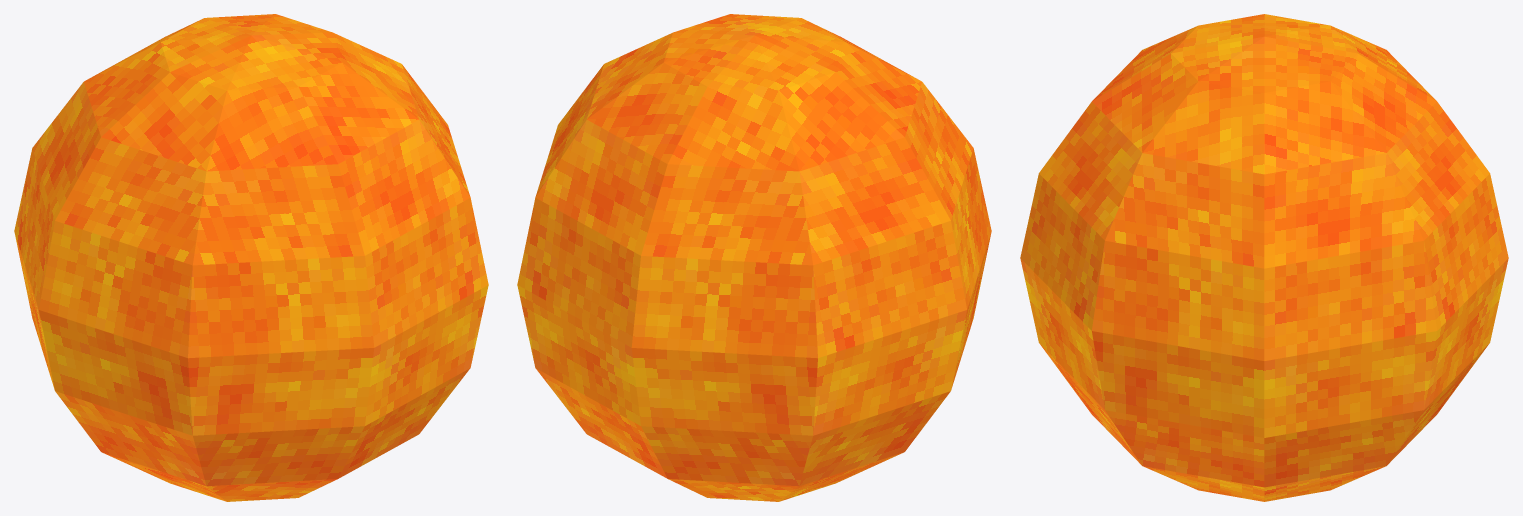
Rendered from Fireball.glb.
3 views of the same model, side by side, from view 1: azimuth 30°, elevation 25°; view 2: azimuth 150°, elevation 25°; view 3: azimuth 270°, elevation 25° (orthographic).
Parts seen in each view (by area): view 1: Ball; view 2: Ball; view 3: Ball.
Boxes of the visible parts, x1,y1,x2,y2 form: Ball: (14,14,488,501); Ball: (517,14,991,501); Ball: (1020,14,1508,501).
Bounding box in the file's own units: 2 × 2 × 2.
Materials: 1 (1 with a texture image).
